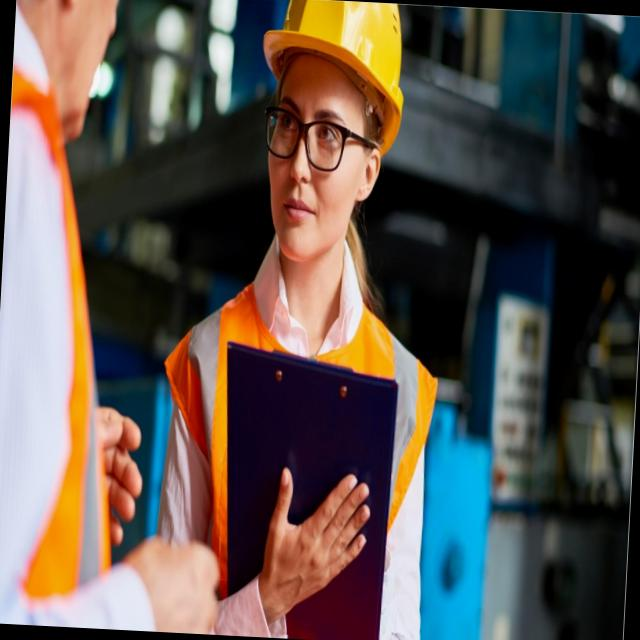helmet: (244, 0, 414, 171)
vest: (148, 255, 442, 640)
